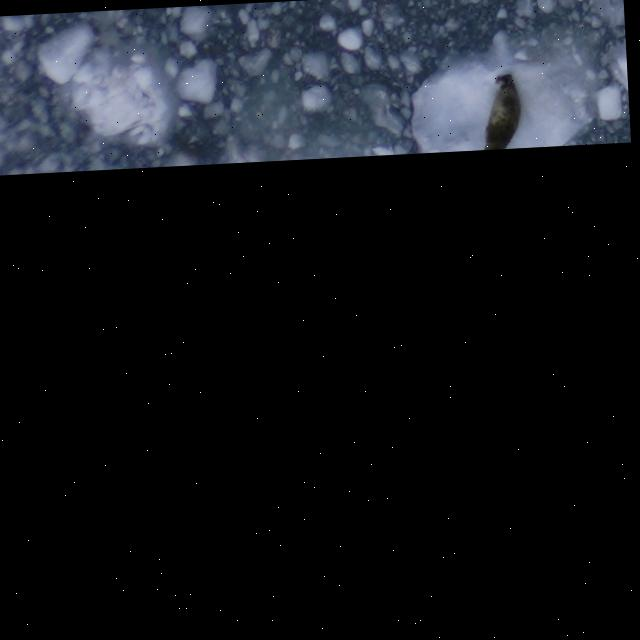seal: (473, 73, 527, 150)
